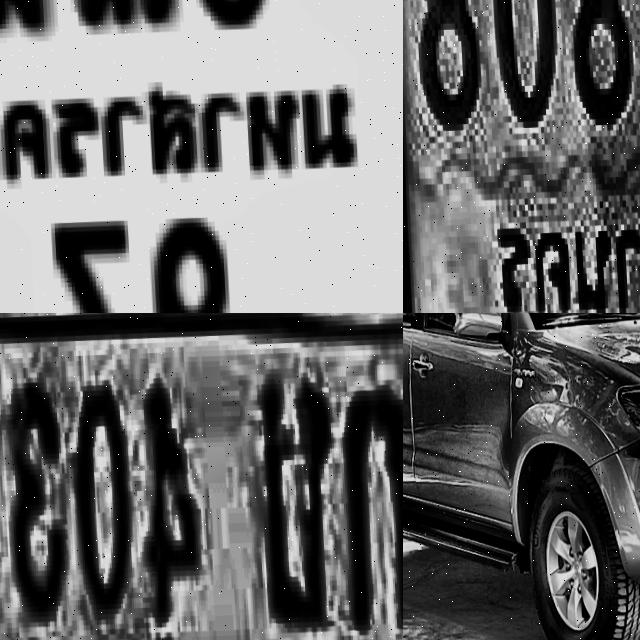license-plate: (0, 313, 403, 640), (0, 0, 403, 313), (403, 0, 640, 313)
